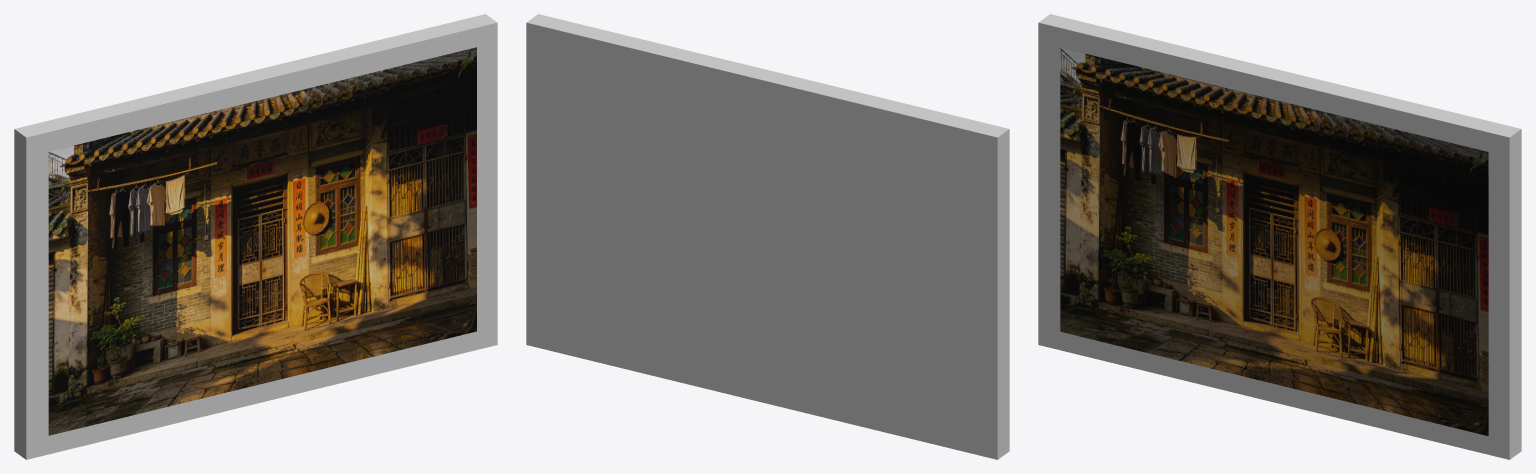
The picture shows the model from 3 angles, left to right: view 1: azimuth 30°, elevation 25°; view 2: azimuth 150°, elevation 25°; view 3: azimuth 330°, elevation 25°; orthographic projection.
Visible parts, largest first — view 1: 平面, 立方体; view 2: 立方体; view 3: 平面, 立方体.
Boxes of the visible parts, left/top/right/bottom form: 平面: left=48, top=47, right=476, bottom=435; 立方体: left=14, top=14, right=497, bottom=459; 立方体: left=526, top=14, right=1009, bottom=459; 平面: left=1060, top=47, right=1488, bottom=436; 立方体: left=1038, top=14, right=1521, bottom=459.
Size of the model in its own units: 3.47 by 2.27 by 0.1551.
1 material, 1 textured.
